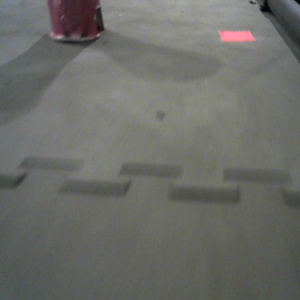Middle: (45, 1, 105, 42)
